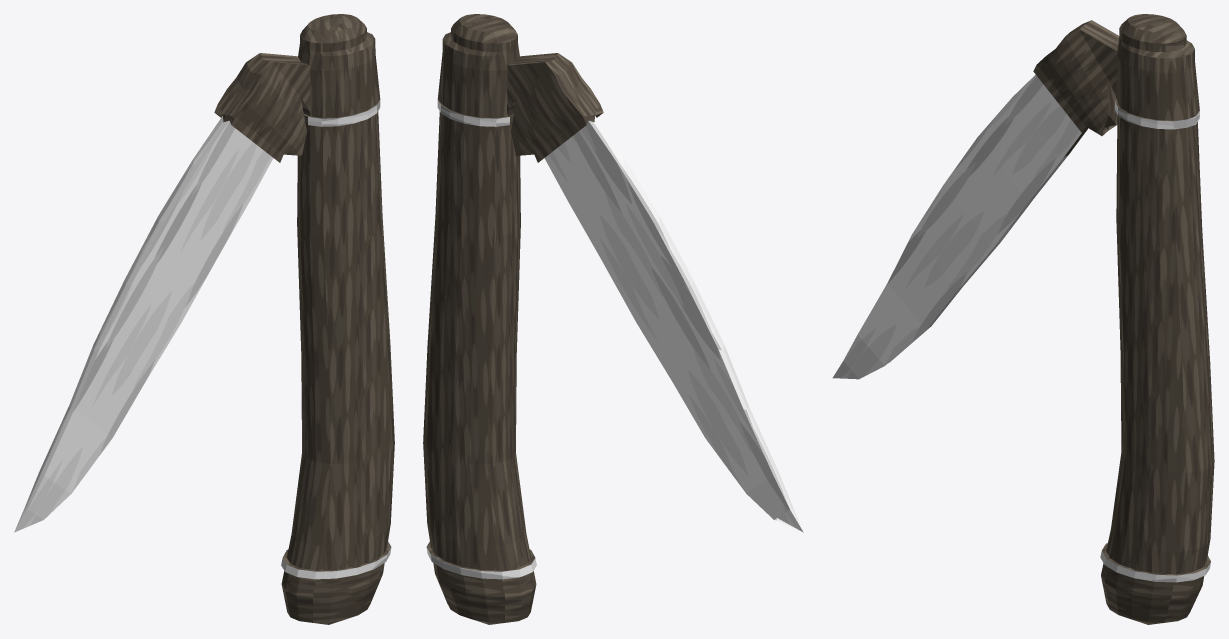
File: navaja.fbx
3 views of the same model, side by side, from view 1: azimuth 30°, elevation 25°; view 2: azimuth 150°, elevation 25°; view 3: azimuth 330°, elevation 25° (orthographic).
Visible parts, largest first — view 1: Cilindro.001; view 2: Cilindro.001; view 3: Cilindro.001.
Boxes of the visible parts, left/top/right/bottom form: Cilindro.001: left=14, top=14, right=394, bottom=624; Cilindro.001: left=423, top=14, right=803, bottom=624; Cilindro.001: left=832, top=14, right=1214, bottom=624.
Bounding box in the file's own units: 282 × 430 × 54.08.
